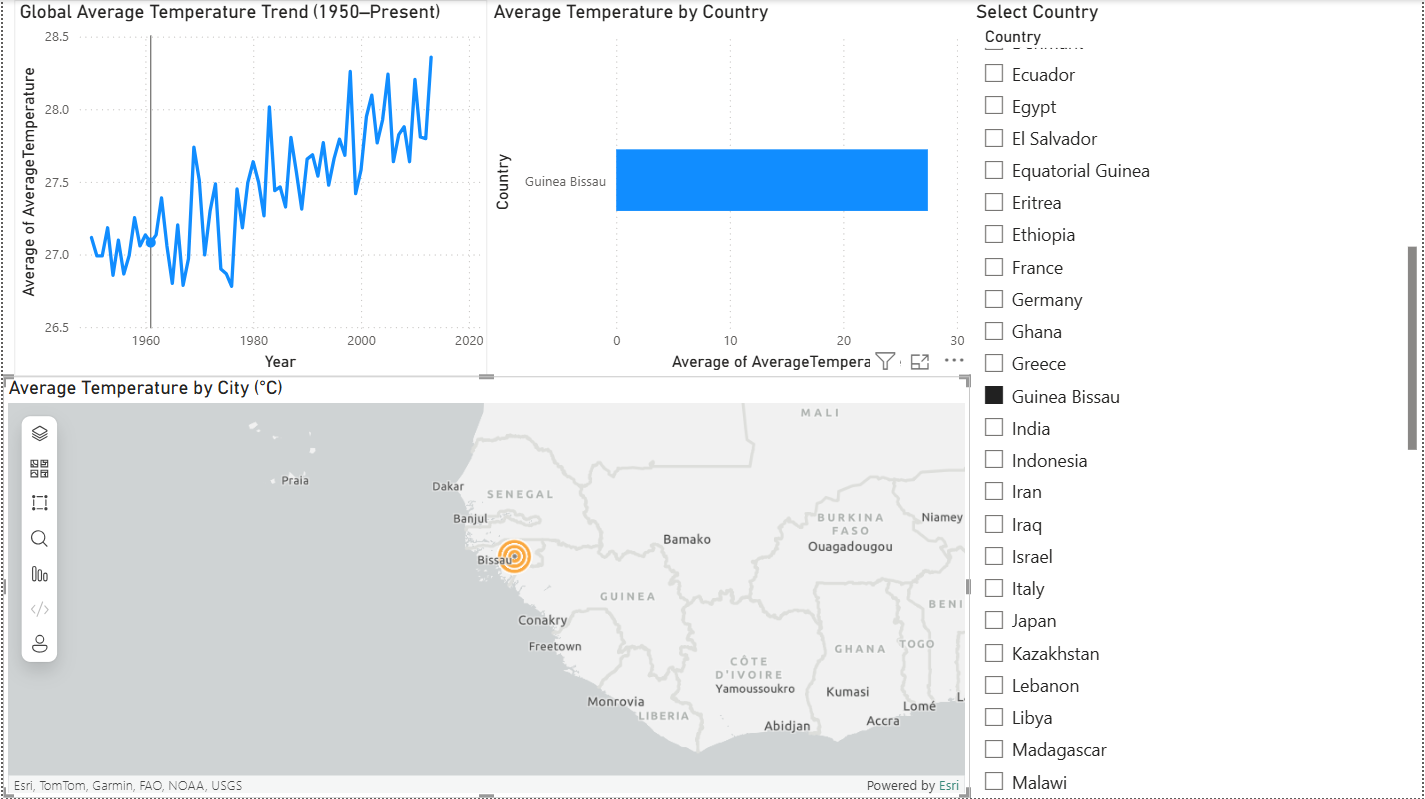

Layout of this report page (visuals, bound fields, positions):
{"tool":"powerbi","page":{"name":"Page 1","canvas":[1280,720],"ordinal":0},"visuals":[{"type":"lineChart","title":"Global Average Temperature Trend (1950–Present)","fields":{"Category":["cleaned_climate_data_1950.Year"],"Y":["Avg(cleaned_climate_data_1950.AverageTemperature)"]},"box":[9.6,0,428.1,338.9],"z":0},{"type":"barChart","title":"Average Temperature by Country","fields":{"Category":["cleaned_climate_data_1950.Country"],"Y":["Avg(cleaned_climate_data_1950.AverageTemperature)"]},"box":[437.7,0,435,338.9],"z":1000},{"type":"esriVisual","title":"Average Temperature by City (°C)","fields":{"Latitude":["cleaned_climate_data_1950.Latitude"],"Longitude":["cleaned_climate_data_1950.Longitude"],"Location":["cleaned_climate_data_1950.City"],"Size":["Avg(cleaned_climate_data_1950.AverageTemperature)"],"Time":["cleaned_climate_data_1950.Year"]},"box":[0,338.9,872.7,381.5],"z":1001},{"type":"slicer","title":"Select Country","fields":{"Values":["cleaned_climate_data_1950.Country"]},"box":[872.7,0,407.5,720.4],"z":1002}]}

Visuals, with their boxes in screenshot pixels (x1, y1, x2, y2), scaled from the page's 1280x720 canvas onto the 1425x799 screenshot:
"Global Average Temperature Trend (1950–Present)" lineChart: (left=11, top=0, right=487, bottom=376)
"Average Temperature by Country" barChart: (left=487, top=0, right=972, bottom=376)
"Average Temperature by City (°C)" esriVisual: (left=0, top=376, right=972, bottom=798)
"Select Country" slicer: (left=972, top=0, right=1424, bottom=798)
